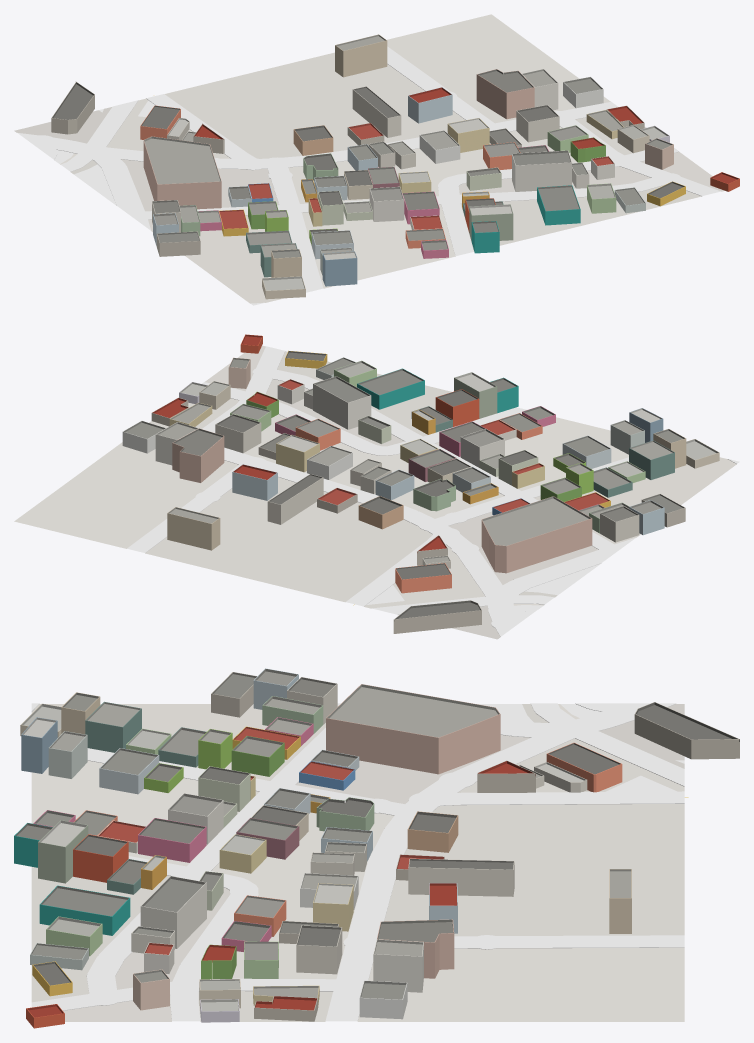
3 renders of one model, top to bottom at view 1: azimuth 30°, elevation 25°; view 2: azimuth 150°, elevation 25°; view 3: azimuth 270°, elevation 25°, orthographic. The views are drawn at different scales.
Parts seen in each view (by area): view 1: ground, walls, roofs, sidewalk, grass; view 2: ground, walls, roofs, sidewalk, grass; view 3: ground, walls, roofs, sidewalk, grass.
Boxes of the visible parts, left/top/right/bottom form: ground: left=14, top=14, right=724, bottom=303; walls: left=51, top=40, right=739, bottom=299; roofs: left=51, top=34, right=739, bottom=290; sidewalk: left=17, top=46, right=720, bottom=305; grass: left=54, top=100, right=155, bottom=205; ground: left=14, top=345, right=736, bottom=639; walls: left=122, top=336, right=719, bottom=633; roofs: left=123, top=334, right=719, bottom=621; sidewalk: left=127, top=346, right=739, bottom=636; grass: left=366, top=563, right=600, bottom=613; ground: left=31, top=704, right=684, bottom=1021; walls: left=14, top=675, right=739, bottom=1028; roofs: left=14, top=668, right=739, bottom=1017; sidewalk: left=31, top=703, right=684, bottom=1021; grass: left=477, top=704, right=684, bottom=791.
Size of what is drawn, in the model's own units: 266 by 13.38 by 241.
